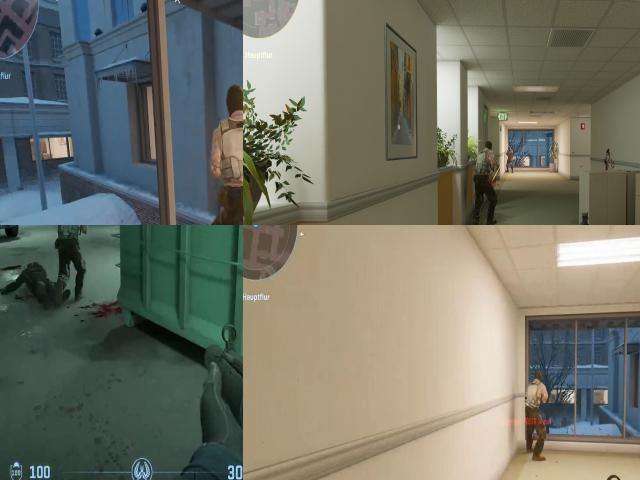CT: (505, 146, 515, 170)
CT-Head: (508, 146, 512, 153)
T: (209, 82, 243, 194), (8, 259, 63, 312), (476, 141, 494, 221), (524, 371, 546, 418), (51, 225, 90, 248)
T-Head: (220, 84, 243, 125), (533, 371, 543, 387), (483, 141, 493, 150)
